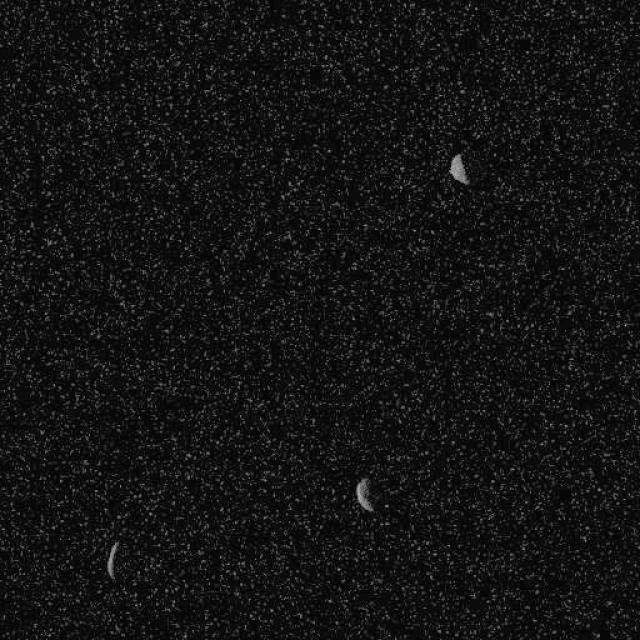D2: (354, 477, 376, 512), (448, 151, 470, 185), (105, 539, 120, 580)
